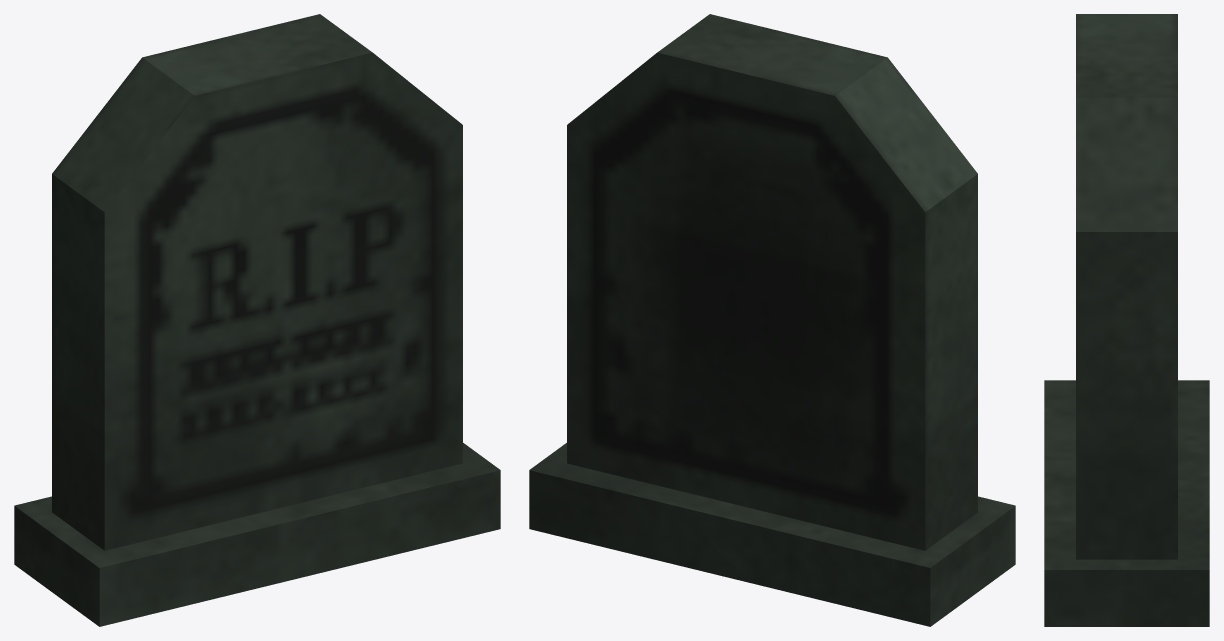
File: gravestone.fbx
The picture shows the model from 3 angles, left to right: view 1: azimuth 30°, elevation 25°; view 2: azimuth 150°, elevation 25°; view 3: azimuth 270°, elevation 25°; orthographic projection. The views are drawn at different scales.
Parts seen in each view (by area): view 1: Gravestone; view 2: Gravestone; view 3: Gravestone.
Boxes of the visible parts, x1,y1,x2,y2 form: Gravestone: (14, 14, 500, 626); Gravestone: (529, 14, 1015, 626); Gravestone: (1044, 14, 1209, 626).
Size of the model in its own units: 76.97 by 90.14 by 28.35.
